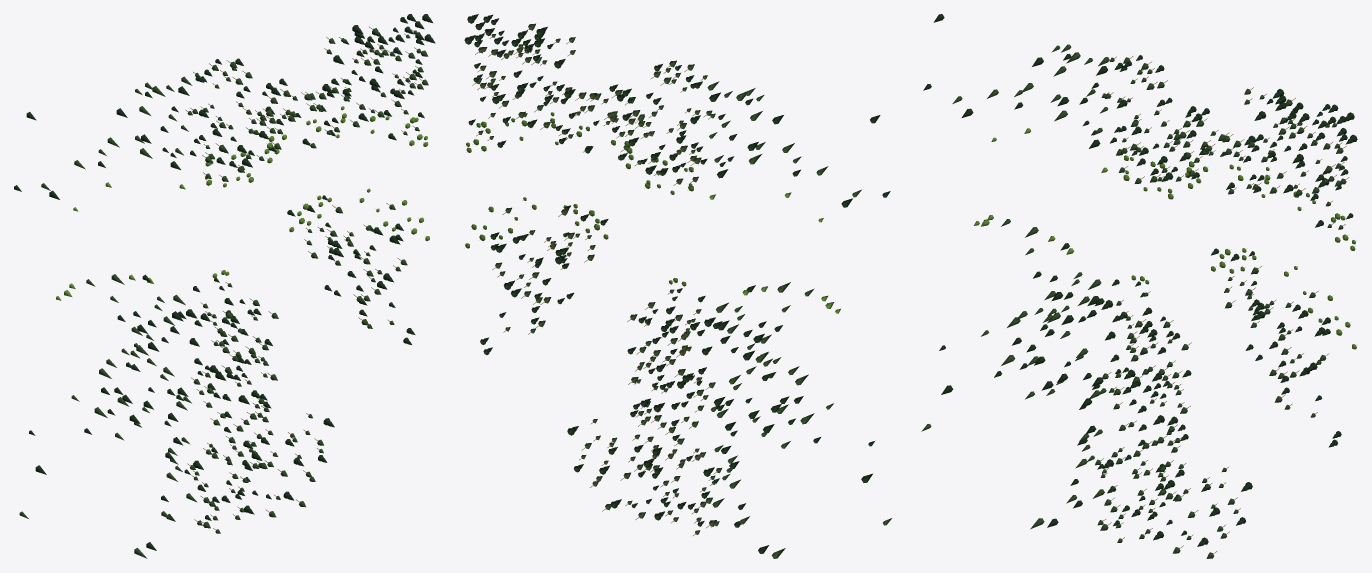
Rendered from forest_1.obj.
The picture shows the model from 3 angles, left to right: view 1: azimuth 30°, elevation 25°; view 2: azimuth 150°, elevation 25°; view 3: azimuth 330°, elevation 25°; orthographic projection. The views are drawn at different scales.
Size of the model in its own units: 514 by 556 by 43.54.
